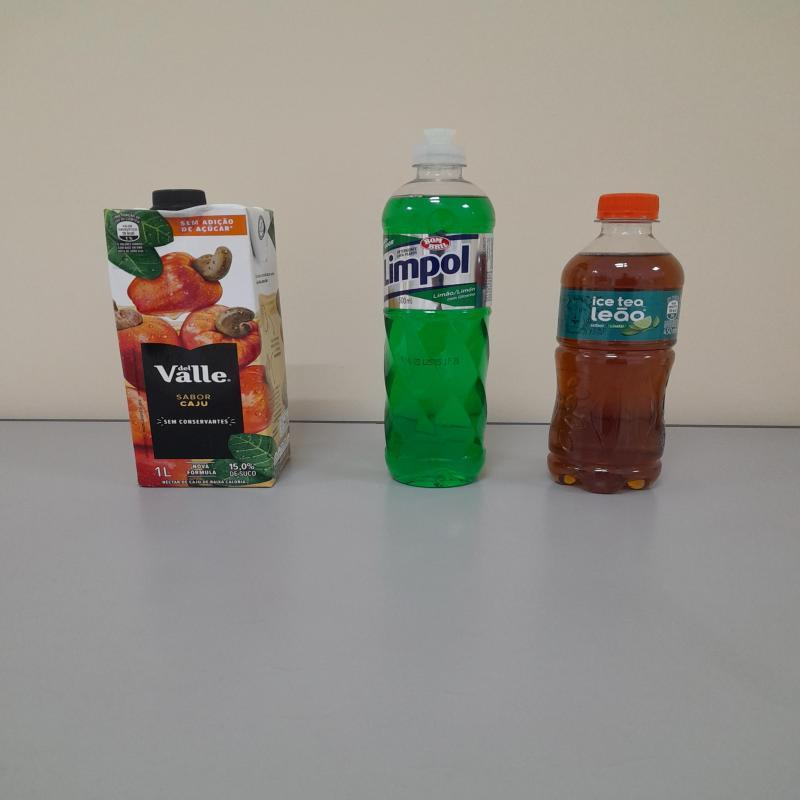Cleaner: (381, 129, 497, 492)
IceTea: (547, 195, 684, 498)
